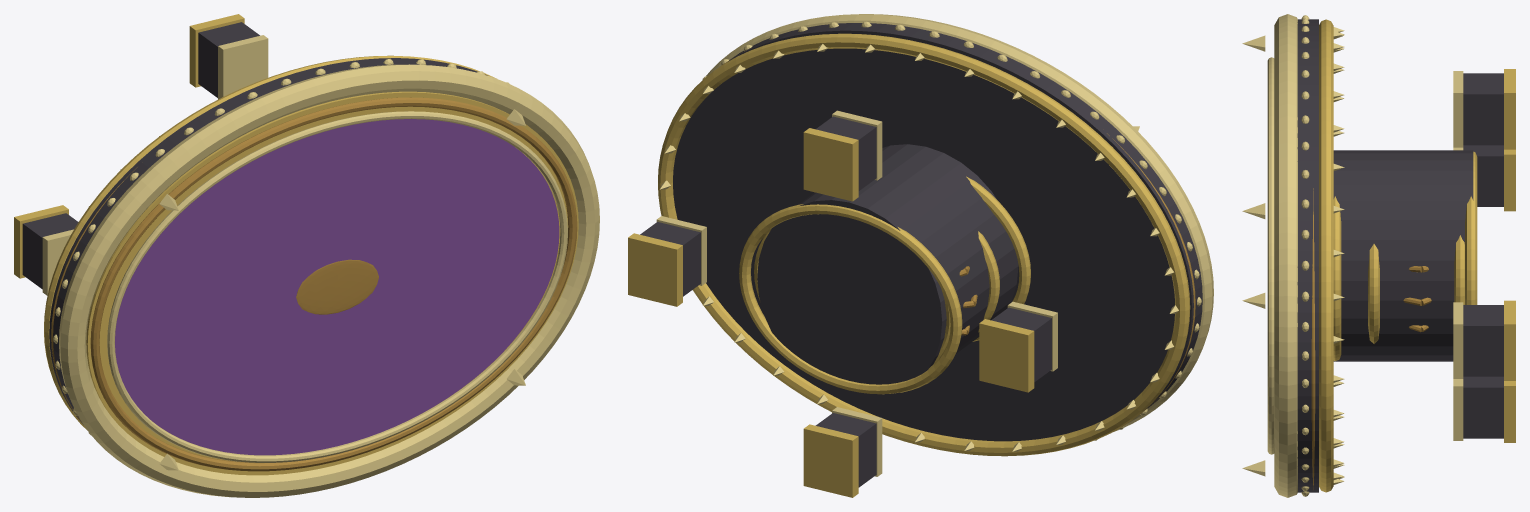
Rendered from table_royal_amethyst.glb.
3 views of the same model, side by side, from view 1: azimuth 30°, elevation 25°; view 2: azimuth 150°, elevation 25°; view 3: azimuth 270°, elevation 25° (orthographic).
Parts seen in each view (by area): view 1: world; view 2: world; view 3: world.
Boxes of the visible parts, <box> form: world: <box>14,14,599,497</box>; world: <box>628,14,1213,497</box>; world: <box>1242,14,1515,497</box>.
Size of the model in its own units: 2.85 by 2.09 by 1.27.
